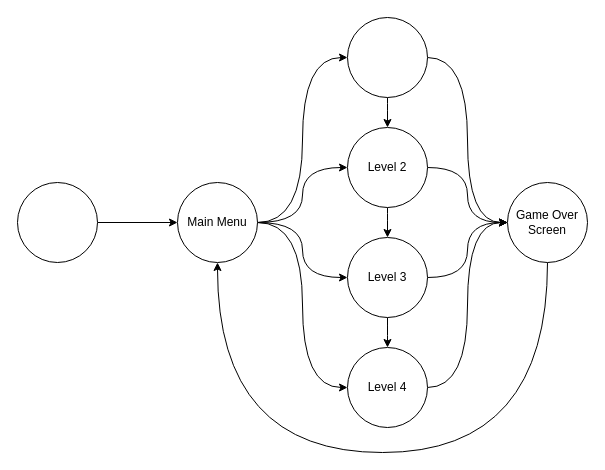
Image size: 605x470. Some labels were removed from this diagram. The box of each missing label's shape, as (x1, y1, x2, y2) in pixels:
Level 1: (346, 16, 428, 98)
Loading Screen: (16, 182, 98, 262)
